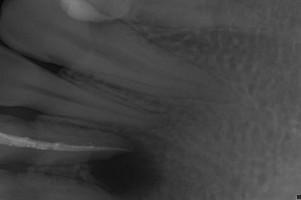Furcation Involvement: (88, 136, 162, 200)
